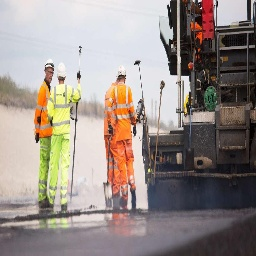helmet: (43, 57, 55, 78), (116, 61, 128, 81), (56, 63, 67, 81)
person: (109, 65, 139, 214), (49, 63, 75, 213), (35, 57, 55, 210)
vest: (112, 81, 134, 140), (50, 84, 74, 137), (34, 81, 55, 141)
